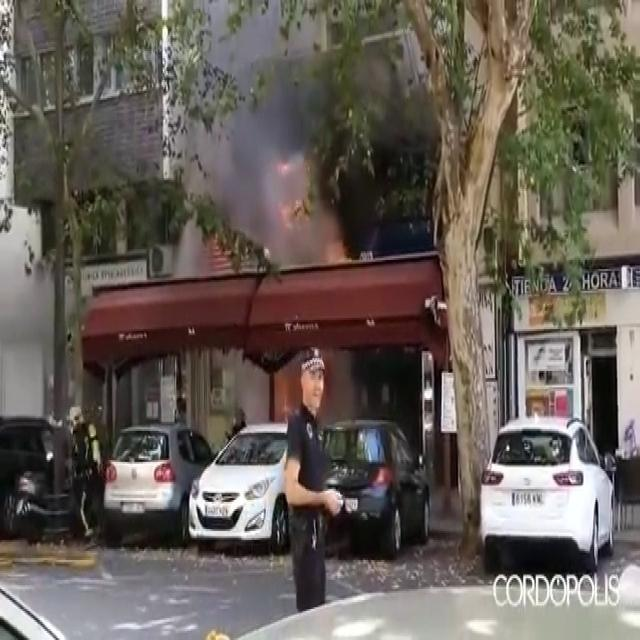Smoke: (166, 8, 342, 268)
